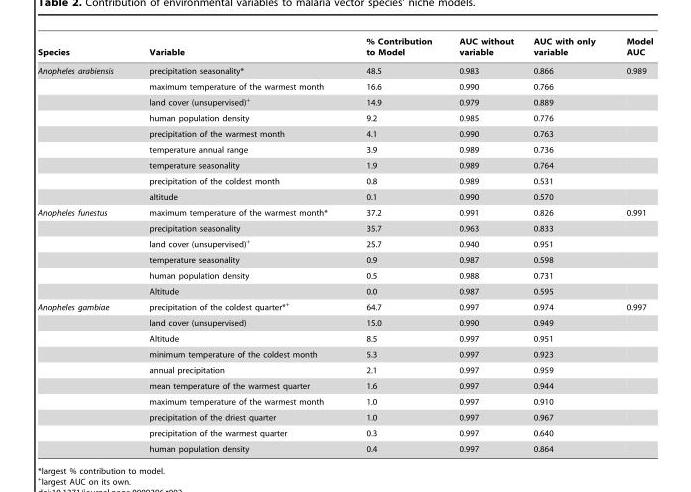table: (37, 36, 652, 453)
table column: (130, 36, 346, 453), (346, 36, 445, 453), (37, 36, 130, 453), (522, 36, 610, 453), (445, 36, 522, 453), (610, 36, 652, 453)
table column header: (37, 36, 652, 61)
table row: (37, 36, 652, 61), (37, 92, 652, 110), (37, 61, 652, 78), (37, 234, 652, 251), (37, 297, 652, 314), (37, 125, 652, 141), (37, 141, 652, 157), (37, 157, 652, 173), (37, 188, 652, 204), (37, 204, 652, 220), (37, 251, 652, 267), (37, 267, 652, 283), (37, 314, 652, 330), (37, 330, 652, 346), (37, 346, 652, 362), (37, 377, 652, 393), (37, 393, 652, 409), (37, 409, 652, 425), (37, 110, 652, 125), (37, 173, 652, 188), (37, 362, 652, 377), (37, 425, 652, 440), (37, 78, 652, 92), (37, 220, 652, 234), (37, 283, 652, 297), (37, 440, 652, 453)
table spanning cell: (37, 297, 130, 453), (37, 61, 130, 204), (37, 204, 130, 297)
